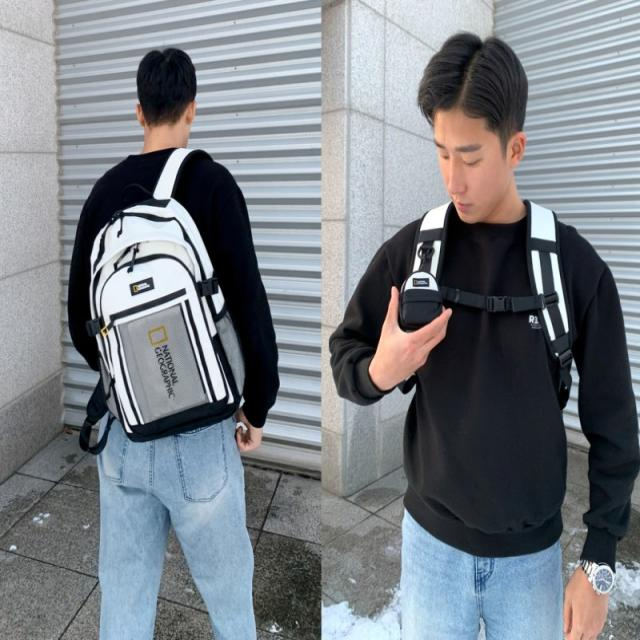backpack: (80, 157, 252, 453)
